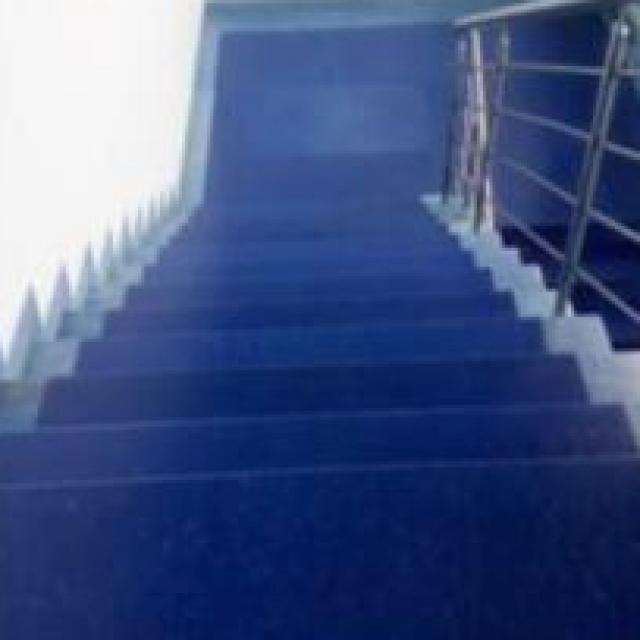downstair: (1, 356, 575, 566)
